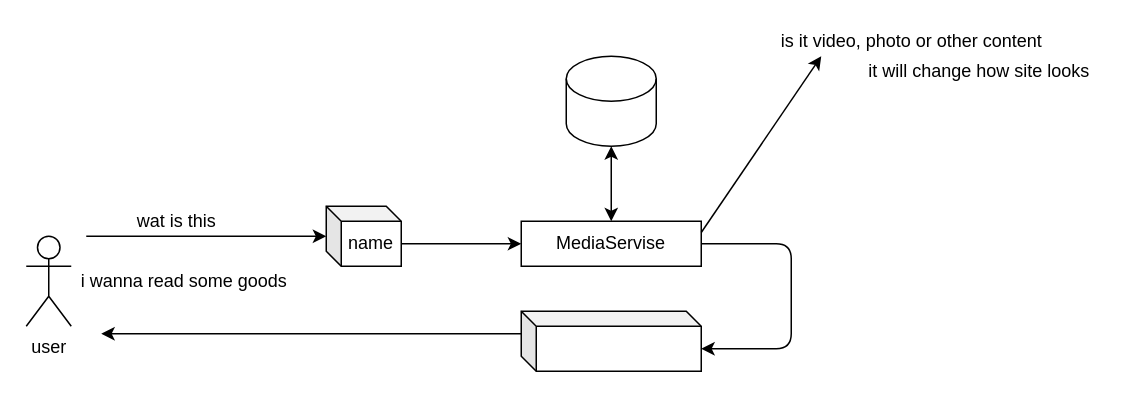
The diagram is 1125 pixels wide and 398 high, and some of its shapes have lost their labels. Here are the shapes that lost their labels. From the top down, the centre of each, then its label:
At (610,100): "little big data".
At (610,340): "Data with".
